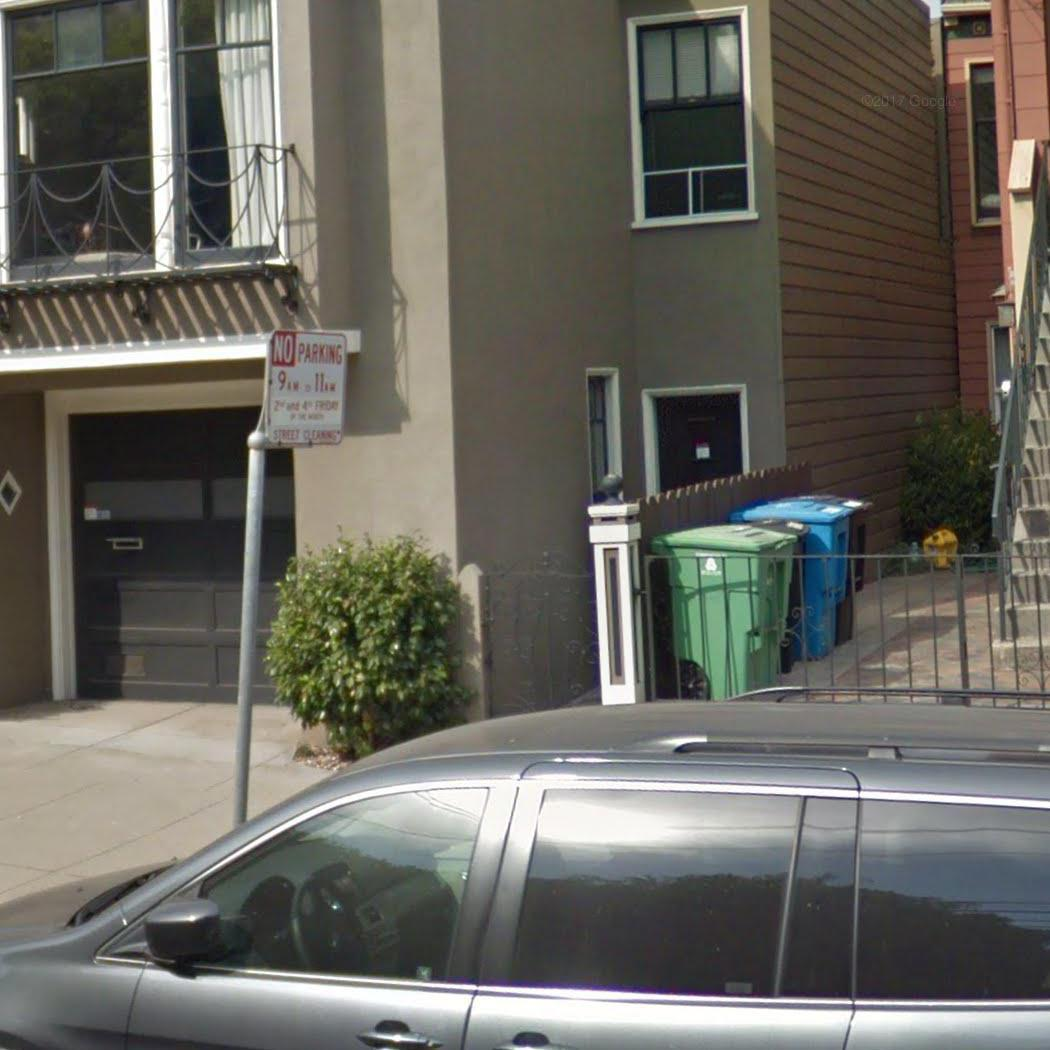No Parking: (257, 325, 350, 449)
